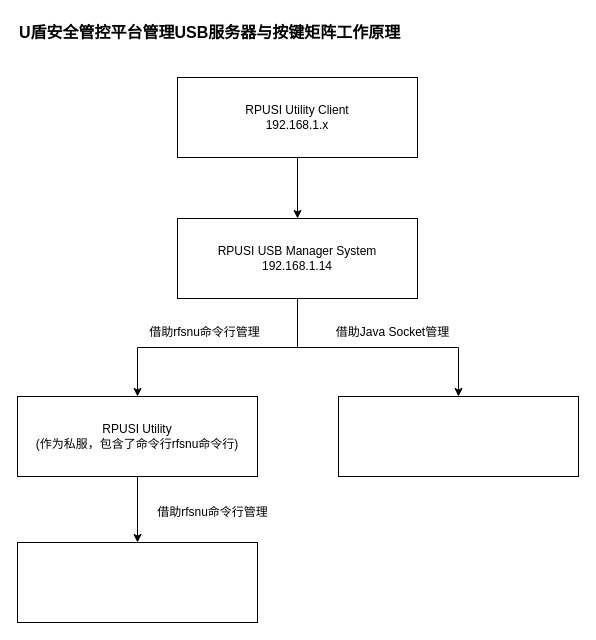
Image size: 596x640. Some labels were removed from this diagram. The box of each missing label's shape, as (x1, y1, x2, y2) in pixels:
USB SERVER 192.168.1.13: (16, 542, 258, 622)
按键矩阵 192.168.1.12: (338, 396, 578, 476)
